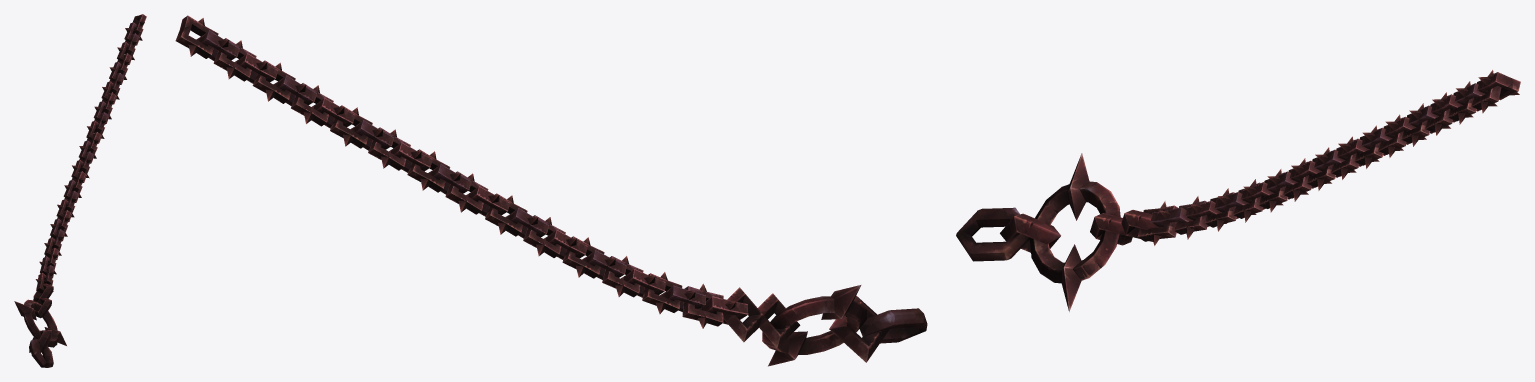
Rendered from mesh_tower_chain06.FBX.
3 views of the same model, side by side, from view 1: azimuth 30°, elevation 25°; view 2: azimuth 150°, elevation 25°; view 3: azimuth 270°, elevation 25° (orthographic). The views are drawn at different scales.
Visible parts, largest first — view 1: mesh_tower_chain06; view 2: mesh_tower_chain06; view 3: mesh_tower_chain06.
Part boxes in pixels (x1,y1,x2,y2): mesh_tower_chain06: (14,14,146,367); mesh_tower_chain06: (175,15,927,366); mesh_tower_chain06: (956,70,1520,311).
Bounding box in the file's own units: 22.19 × 18.28 × 22.35.
